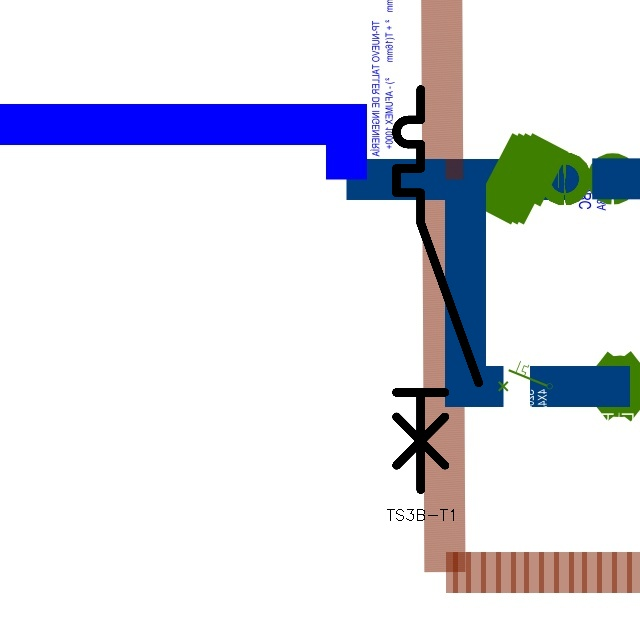interruptor_termomagnetico: (386, 79, 489, 500)
